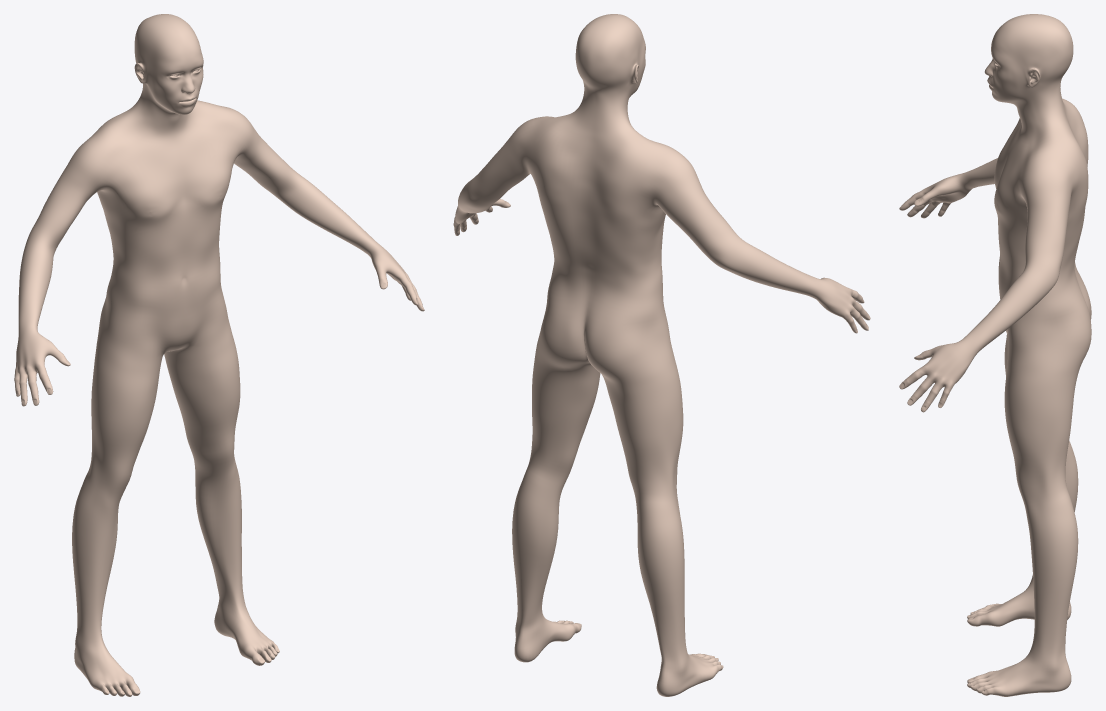
Rendered from body-male.glb.
3 views of the same model, side by side, from view 1: azimuth 30°, elevation 25°; view 2: azimuth 150°, elevation 25°; view 3: azimuth 270°, elevation 25° (orthographic).
Parts seen in each view (by area): view 1: ThunderBody; view 2: ThunderBody; view 3: ThunderBody.
Boxes of the visible parts, <box> form: ThunderBody: <box>14,14,424,696</box>; ThunderBody: <box>453,14,870,696</box>; ThunderBody: <box>899,14,1091,696</box>.
Bounding box in the file's own units: 1.13 × 1.73 × 0.4717.
